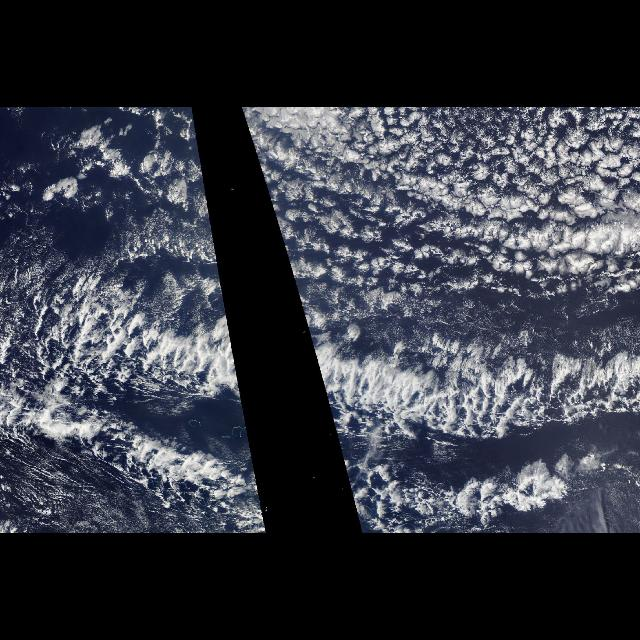Fish: (324, 342, 638, 448), (2, 266, 238, 398), (7, 404, 253, 516)
Flower: (287, 107, 639, 310)
Sugar: (321, 300, 635, 348), (5, 476, 156, 528)
